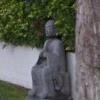Statue: (20, 14, 72, 97)
